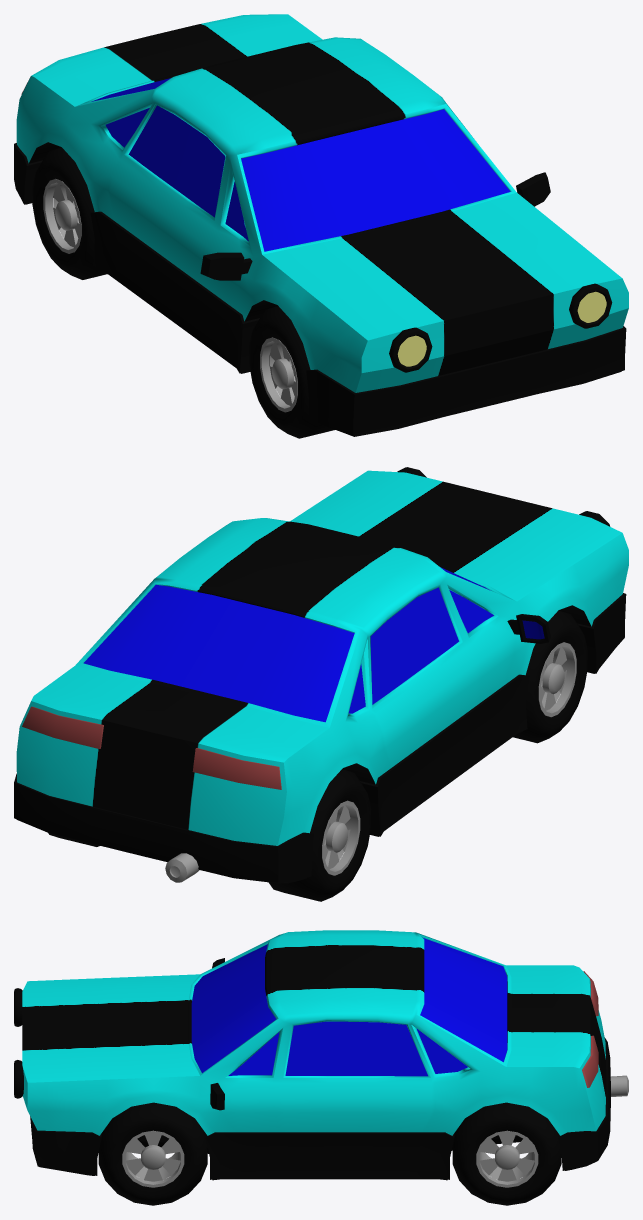
Rendered from Muscle Evolution1 Black LineBlackCyan Blue LightGrey.glb.
The picture shows the model from 3 angles, top to bottom: view 1: azimuth 30°, elevation 25°; view 2: azimuth 150°, elevation 25°; view 3: azimuth 270°, elevation 25°; orthographic projection. The views are drawn at different scales.
Visible parts, largest first — view 1: evo1_body4_f1_dupl, evo1_sill0_f1_dupl, evo1_frontGlass_f1_dupl, evo1_glasseBigR_f1_dupl, evo1_tire_rf_f1_dupl, evo1_tire_rf1_f1_dupl, evo1_rim_A_rb_f1_dupl, evo1_rim_A_rf_f1_dupl, evo1_mirorR3_f1_dupl, evo1_blockLightR_f1_dupl, evo1_blockLightL_f1_dupl, evo1_mirorL3_f1_dupl (+4 smaller); view 2: evo1_body4_f1_dupl, evo1_sill0_f1_dupl, evo1_BackGlassGlass_f1_dupl, evo1_glasseBigR_f1_dupl, evo1_tire_rf_f1_dupl, evo1_tire_rf1_f1_dupl, evo1_rim_A_rf_f1_dupl, evo1_rim_A_rb_f1_dupl, evo1_redlightR2_f1_dupl, evo1_redlightL2_f1_dupl, evo1_glassfR_f1_dupl, evo1_pipe1_f1_dupl (+1 smaller); view 3: evo1_body4_f1_dupl, evo1_sill0_f1_dupl, evo1_BackGlassGlass_f1_dupl, evo1_glasseBigL_f1_dupl, evo1_frontGlass_f1_dupl, evo1_tire_lb_f1_dupl, evo1_tire_lf_f1_dupl, evo1_rim_A_lf_f1_dupl, evo1_rim_A_lb_f1_dupl, evo1_glassfL_f1_dupl, evo1_glassbL_f1_dupl, evo1_GroundBody_f1_dupl (+1 smaller).
Part boxes in pixels (x1,y1,x2,y2): evo1_body4_f1_dupl: (16, 14, 628, 392); evo1_sill0_f1_dupl: (14, 143, 626, 436); evo1_frontGlass_f1_dupl: (241, 109, 510, 251); evo1_glasseBigR_f1_dupl: (128, 105, 225, 217); evo1_tire_rf_f1_dupl: (32, 147, 107, 279); evo1_tire_rf1_f1_dupl: (249, 306, 334, 438); evo1_rim_A_rb_f1_dupl: (43, 179, 81, 253); evo1_rim_A_rf_f1_dupl: (260, 337, 297, 412); evo1_mirorR3_f1_dupl: (200, 252, 252, 280); evo1_blockLightR_f1_dupl: (389, 327, 432, 372); evo1_blockLightL_f1_dupl: (569, 283, 612, 328); evo1_mirorL3_f1_dupl: (516, 172, 550, 206); evo1_body4_f1_dupl: (16, 470, 628, 845); evo1_sill0_f1_dupl: (14, 593, 626, 882); evo1_BackGlassGlass_f1_dupl: (83, 584, 354, 722); evo1_glasseBigR_f1_dupl: (370, 587, 458, 704); evo1_tire_rf_f1_dupl: (268, 769, 371, 901); evo1_tire_rf1_f1_dupl: (513, 610, 587, 743); evo1_rim_A_rf_f1_dupl: (538, 642, 576, 717); evo1_rim_A_rb_f1_dupl: (322, 800, 360, 875); evo1_redlightR2_f1_dupl: (192, 748, 281, 789); evo1_redlightL2_f1_dupl: (22, 706, 103, 748); evo1_glassfR_f1_dupl: (449, 590, 493, 632); evo1_pipe1_f1_dupl: (165, 853, 199, 882); evo1_body4_f1_dupl: (22, 930, 606, 1152); evo1_sill0_f1_dupl: (30, 1037, 610, 1179); evo1_BackGlassGlass_f1_dupl: (420, 937, 507, 1061); evo1_glasseBigL_f1_dupl: (285, 1021, 427, 1076); evo1_frontGlass_f1_dupl: (191, 944, 276, 1073); evo1_tire_lb_f1_dupl: (452, 1102, 561, 1205); evo1_tire_lf_f1_dupl: (98, 1102, 207, 1205); evo1_rim_A_lf_f1_dupl: (122, 1130, 184, 1187); evo1_rim_A_lb_f1_dupl: (476, 1130, 538, 1187); evo1_glassfL_f1_dupl: (228, 1032, 279, 1075); evo1_glassbL_f1_dupl: (416, 1028, 467, 1073); evo1_GroundBody_f1_dupl: (40, 1140, 594, 1180).
Size of the model in its own units: 177 by 112 by 331.
7 materials, 1 textured.
